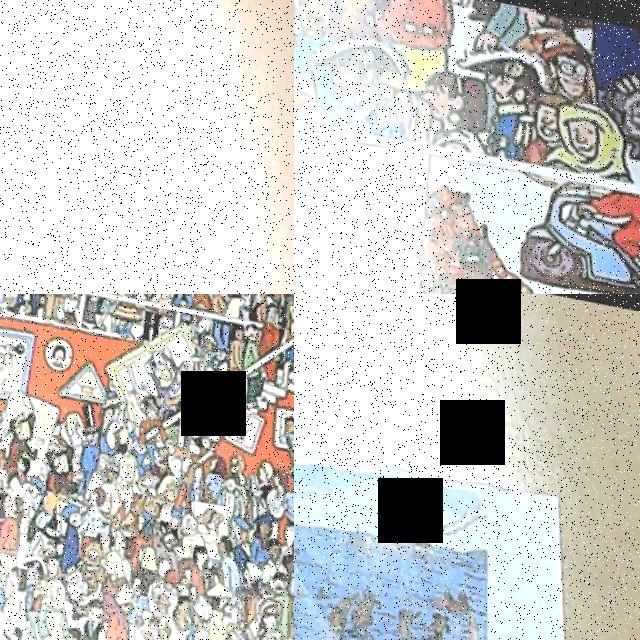waldo: (523, 25, 598, 94), (430, 179, 478, 233), (31, 546, 54, 581)
